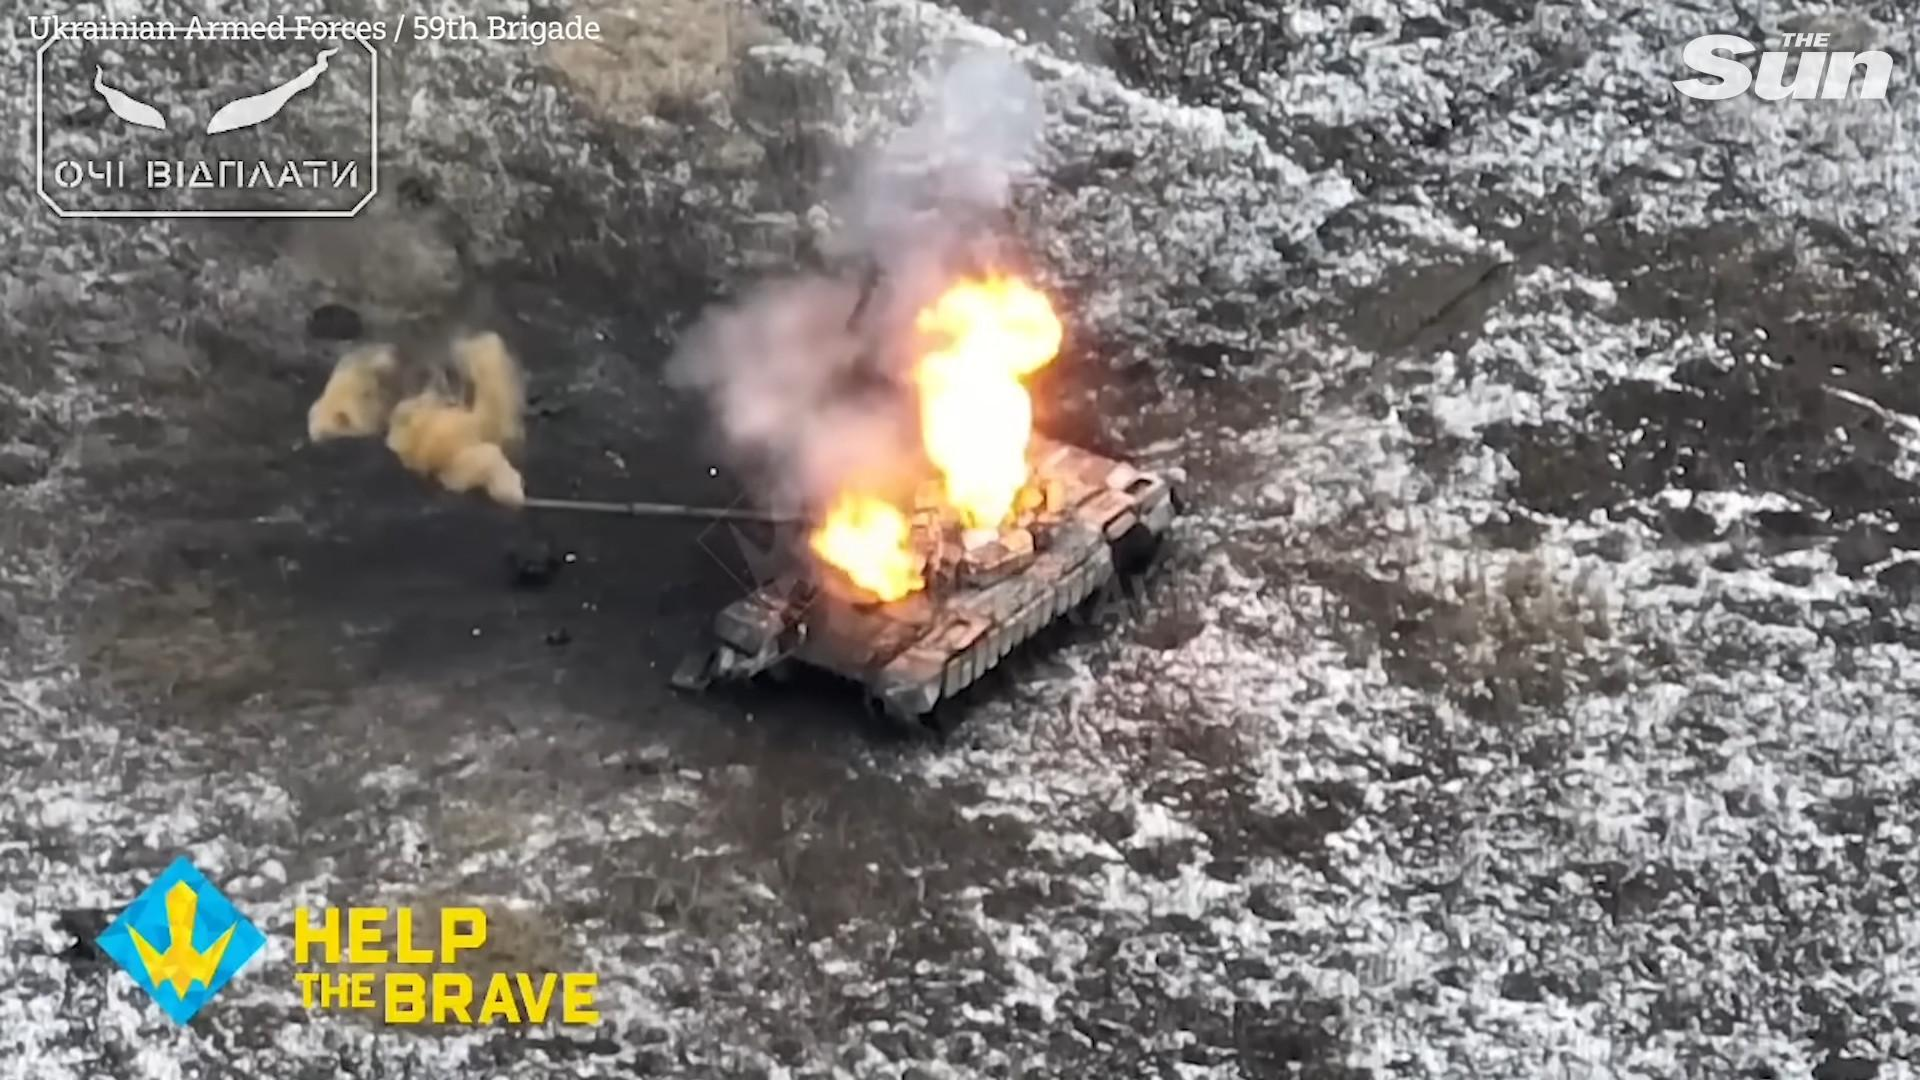tank: (516, 422, 1176, 737)
